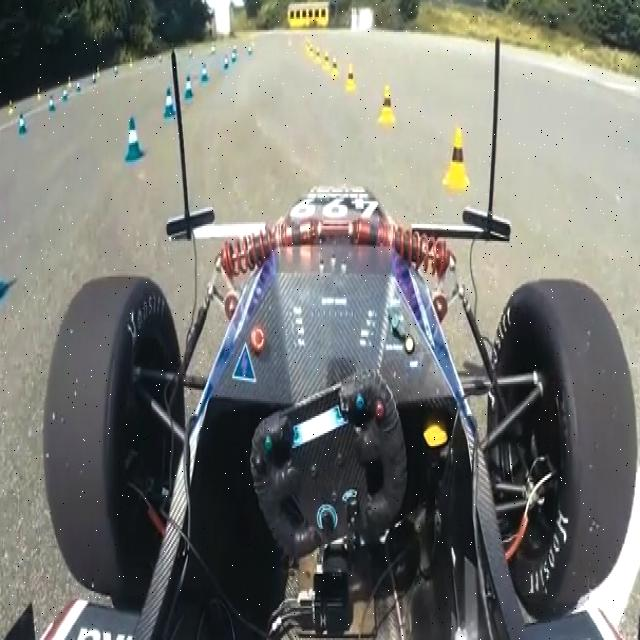blue_cone: (125, 116, 144, 164), (162, 87, 176, 119), (184, 74, 194, 102)
yellow_cone: (443, 126, 471, 190), (378, 82, 398, 124), (346, 64, 358, 92)
